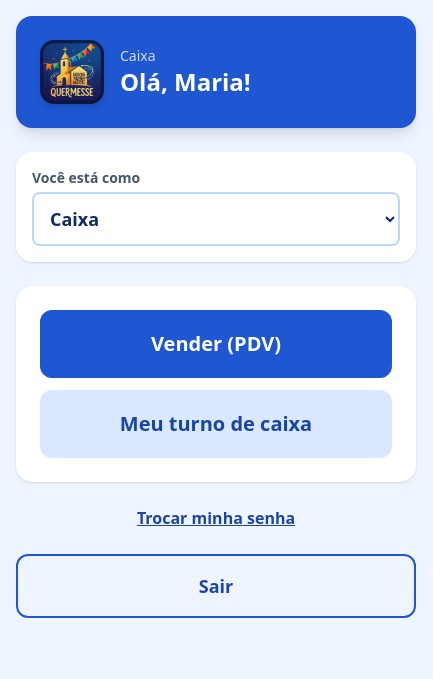
Test: troca de perfil na tela inicial › se o banco recusa, mostra o erro e continua no perfil de antes
Select "Conselho Econômico" in the dropdown named "Trocar perfil" at (216, 219), box [32, 192, 400, 246]
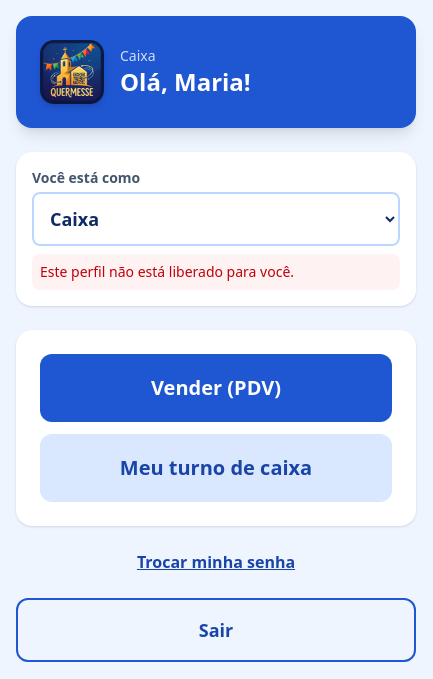
Now the message shows "não está liberado", box [40, 262, 294, 281]
